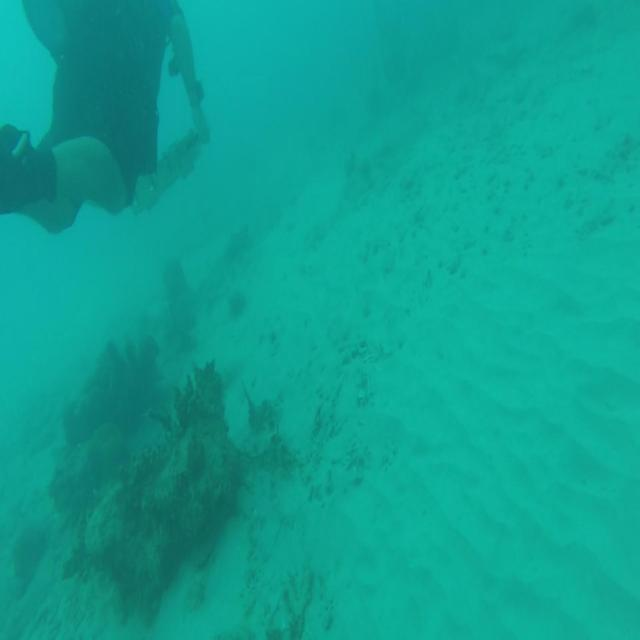human: (0, 0, 210, 233)
